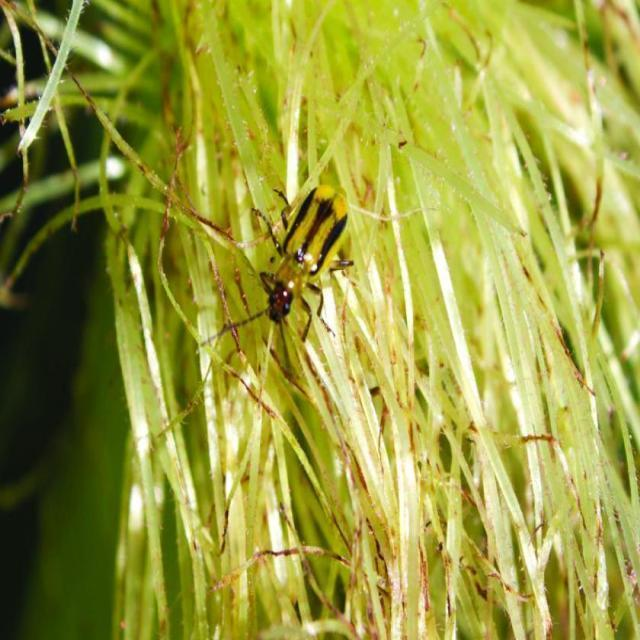trips: (230, 186, 354, 342)
